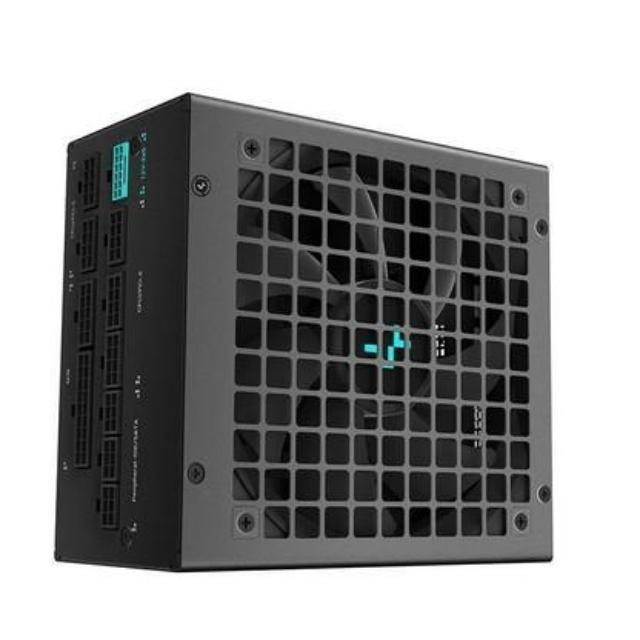PSU: (34, 85, 566, 578)
